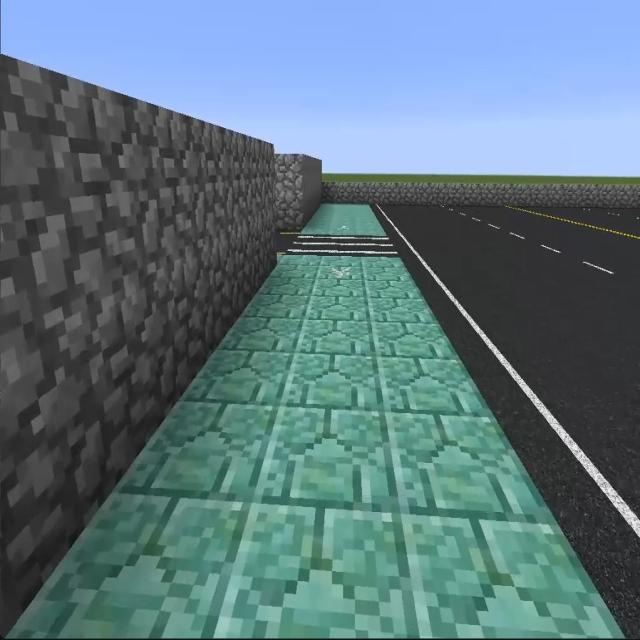crosswalk: (286, 234, 397, 253)
road: (374, 204, 634, 622), (274, 230, 298, 253)
sidewalk: (11, 256, 615, 638), (301, 204, 385, 235)
